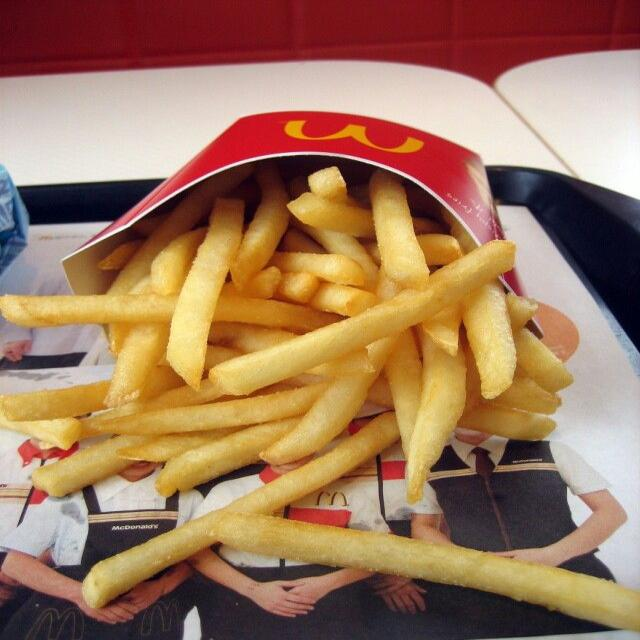potato fries: (0, 161, 557, 513), (216, 513, 639, 630), (166, 198, 243, 388)
